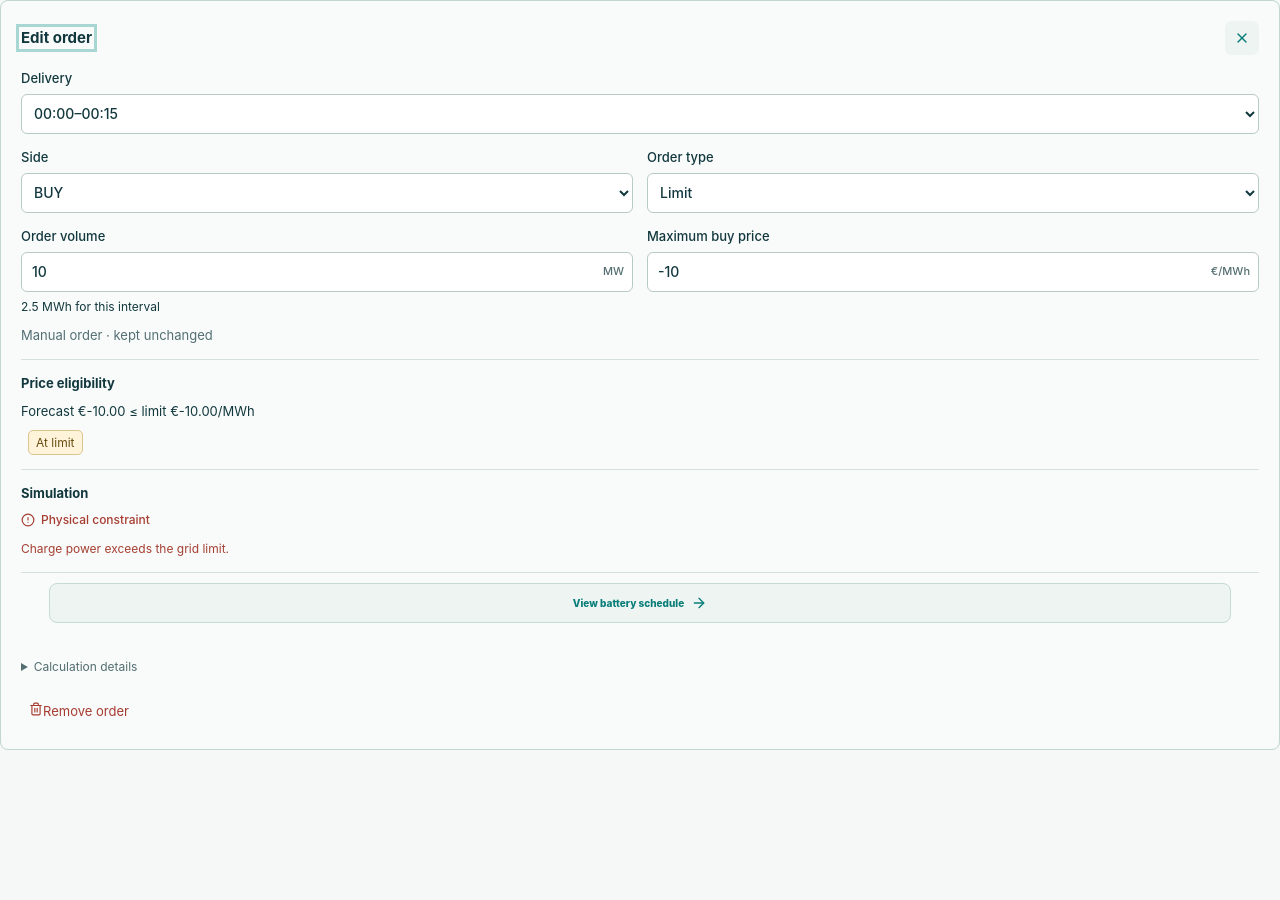
Test case: separates equal-limit eligibility from a physical rejection
Expected: the text "2.5 MWh for this interval" is shown, [21, 298, 160, 314]
Focus the button "At limit" at (55, 442), box [28, 430, 82, 455]
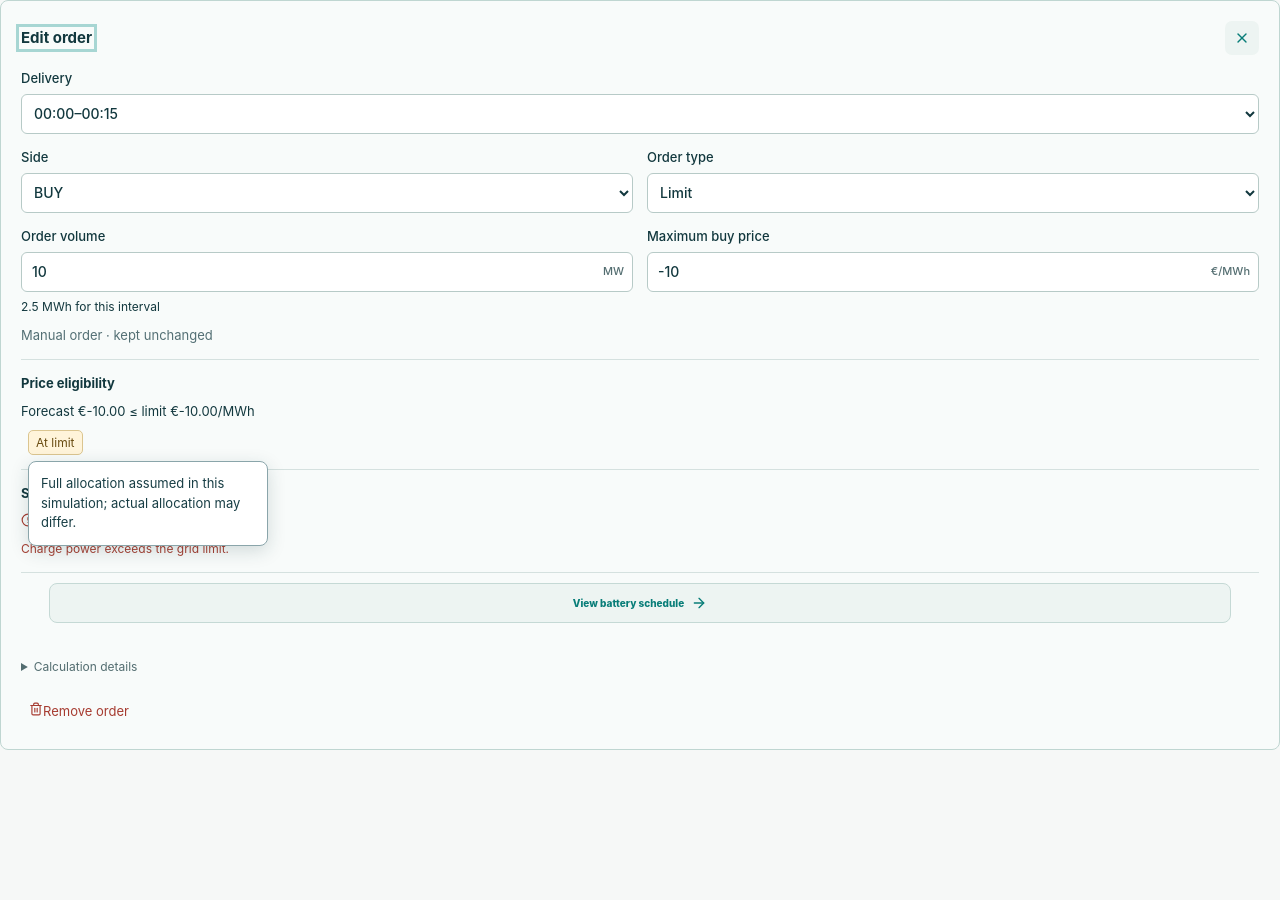
Result: the tooltip shows "Full allocation assumed" at [41, 475, 240, 530]
Press Escape in the button "At limit", box [28, 430, 82, 455]
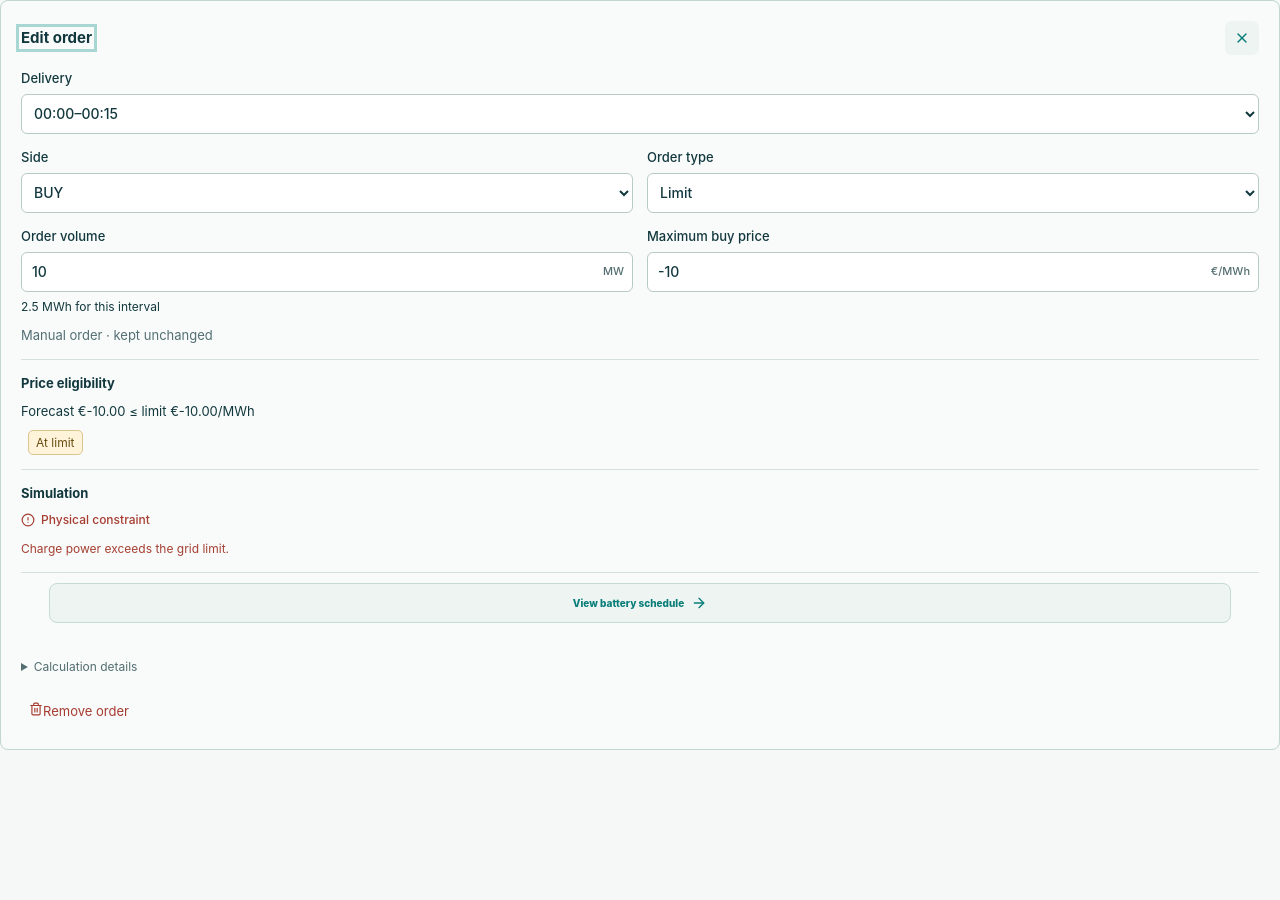
Expected: the text "Physical constraint" is shown, [21, 511, 150, 529]
Result: the tooltip "Full allocation assumed in this simulation; actual allocation may differ." is gone
